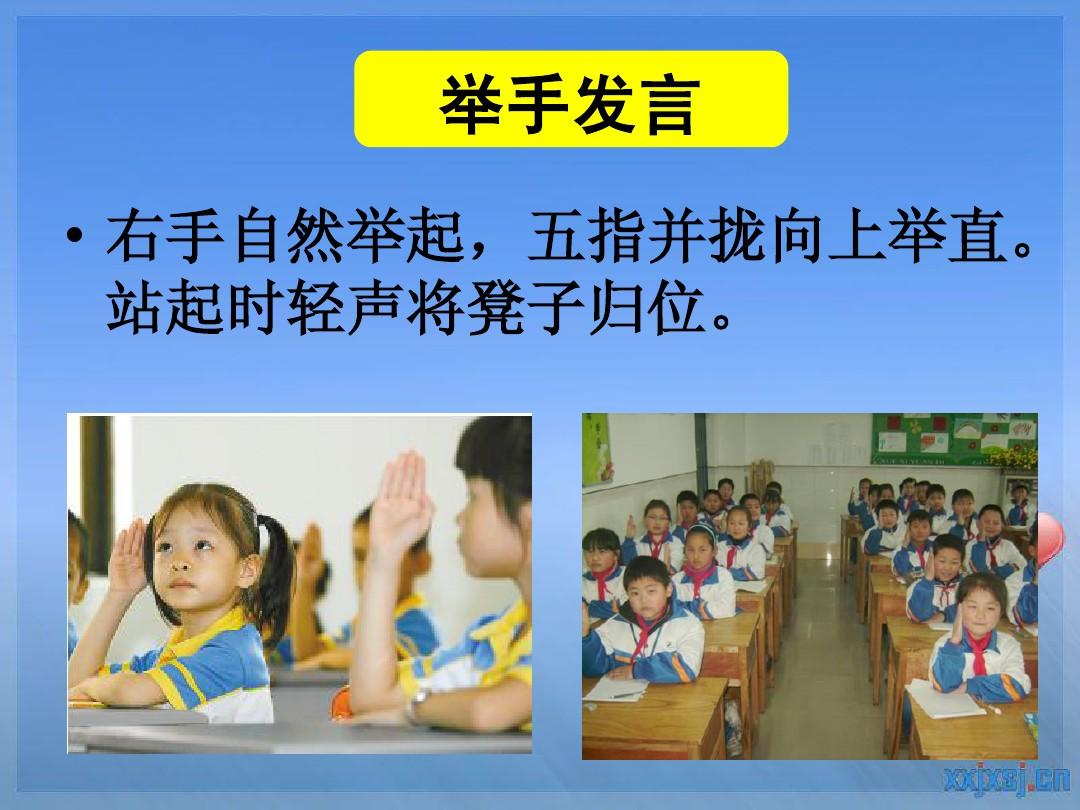handsup: (343, 410, 563, 742), (60, 473, 305, 735), (927, 572, 1039, 715)
